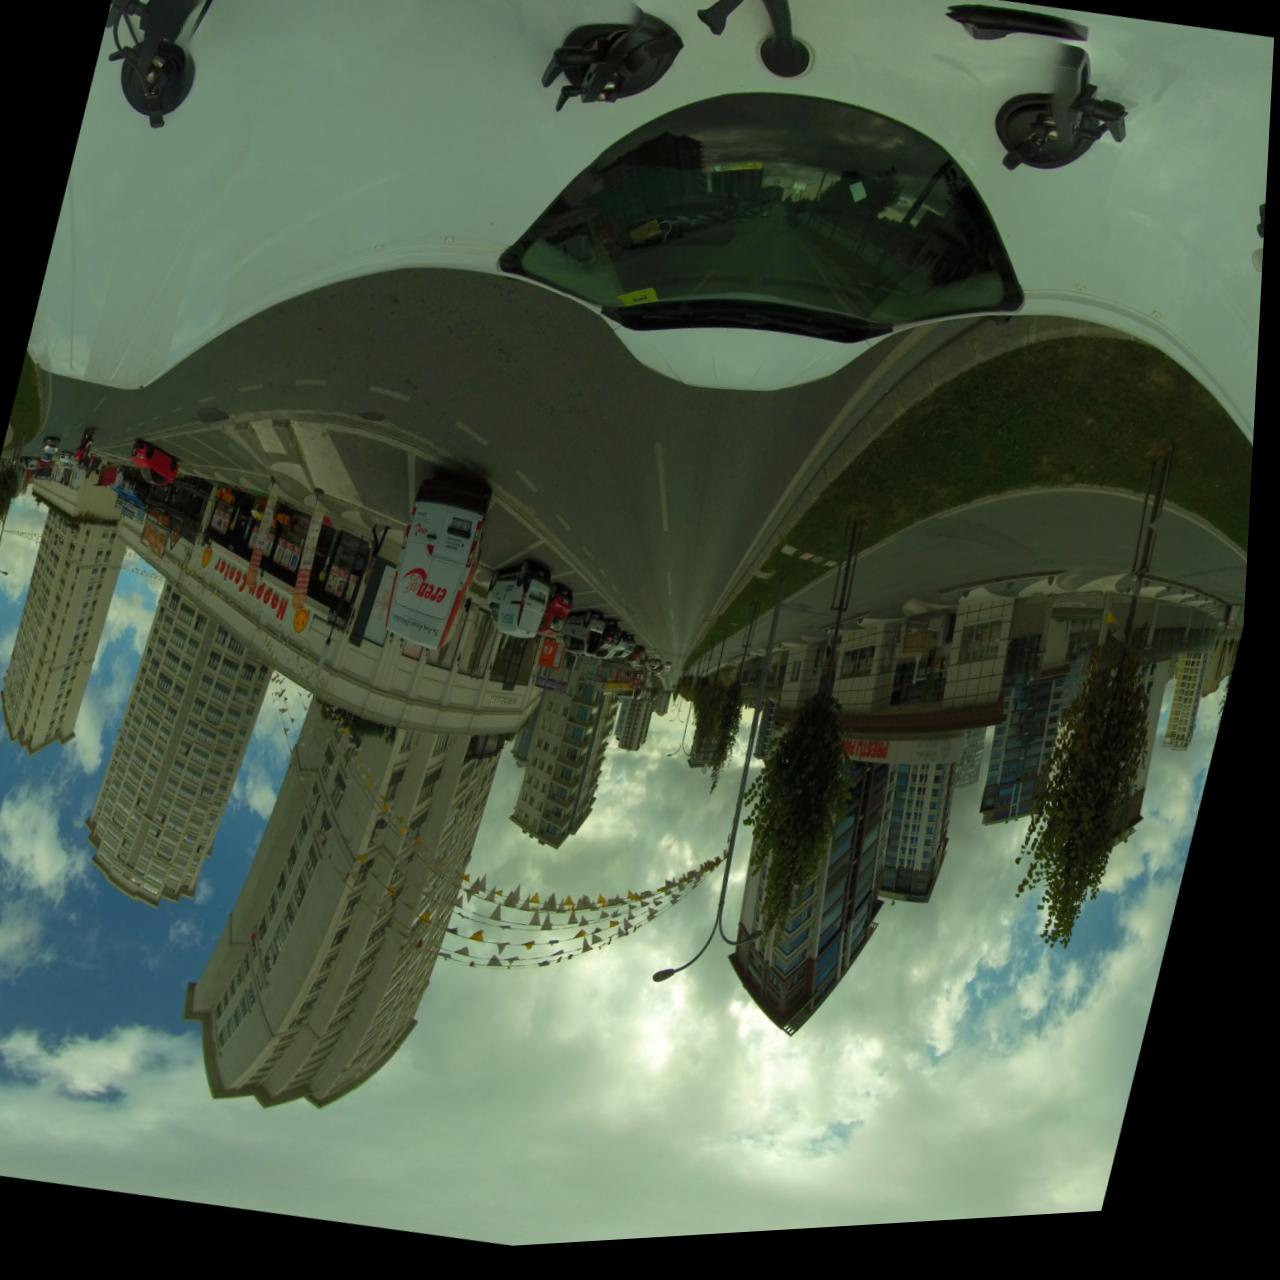SignStore: (198, 542, 321, 642), (846, 748, 972, 775), (490, 697, 531, 714)
